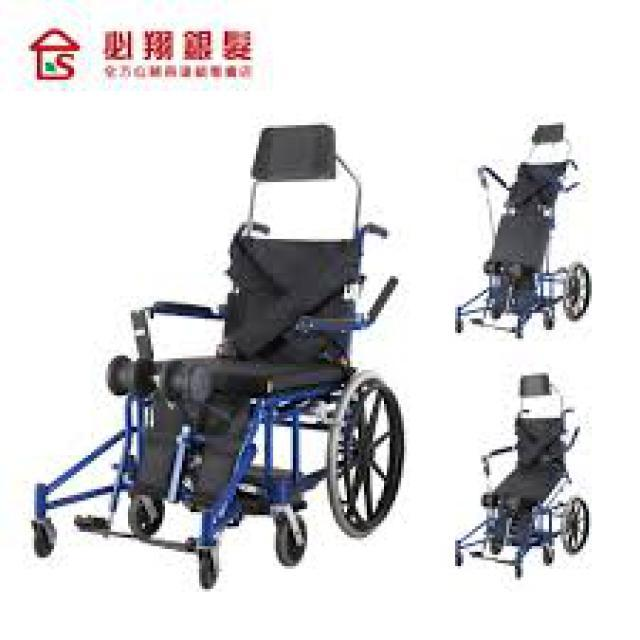wheelchair: (26, 111, 407, 589), (444, 108, 604, 344), (444, 361, 604, 592)
